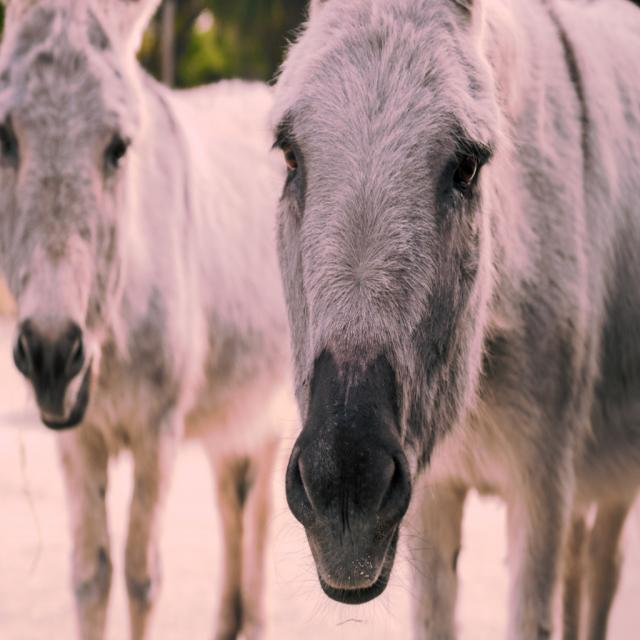Horse: (263, 0, 639, 639), (0, 0, 302, 639)
